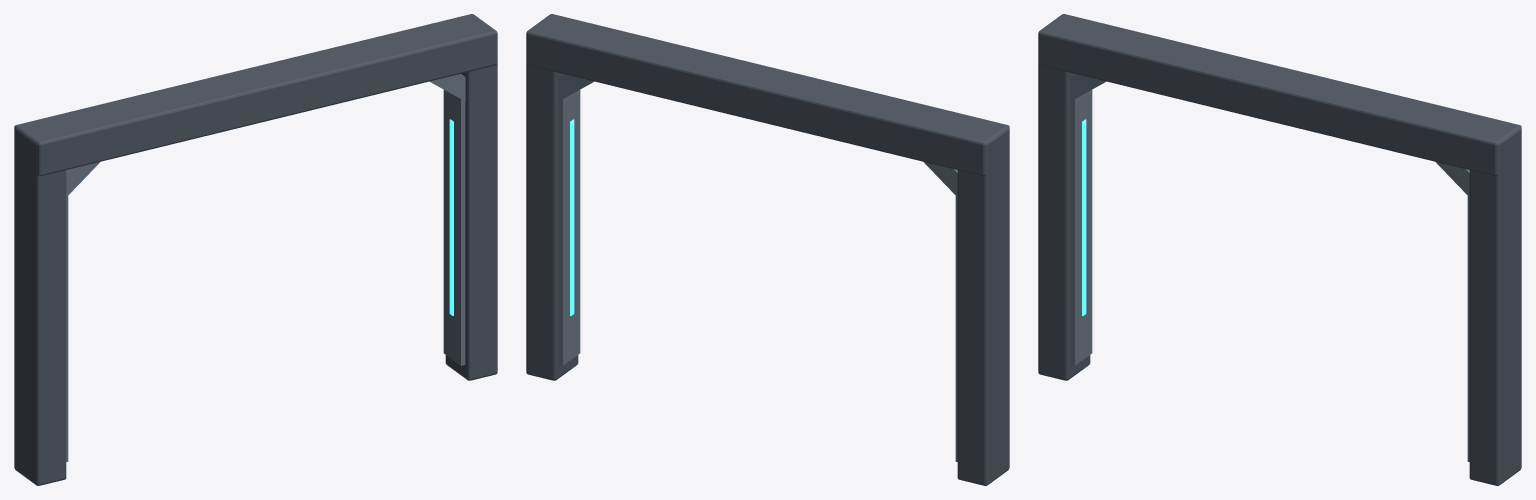
Rendered from arco_criogenico.glb.
3 views of the same model, side by side, from view 1: azimuth 30°, elevation 25°; view 2: azimuth 150°, elevation 25°; view 3: azimuth 330°, elevation 25° (orthographic).
Visible parts, largest first — view 1: Viga_Sup, Pilar_-3.02, Pilar_3.02, Placa_3.02, TiraCian_3.02, Placa_-3.02, Escuadra_3.02; view 2: Viga_Sup, Pilar_-3.02, Pilar_3.02, Placa_3.02, TiraCian_3.02, Placa_-3.02, Escuadra_3.02; view 3: Viga_Sup, Pilar_3.02, Pilar_-3.02, Placa_-3.02, TiraCian_-3.02, Placa_3.02, Escuadra_-3.02.
Part boxes in pixels (x1,y1,x2,y2): Viga_Sup: (14,14,497,176); Pilar_-3.02: (14,127,66,485); Pilar_3.02: (445,64,497,380); Placa_3.02: (443,90,465,365); TiraCian_3.02: (449,119,453,315); Placa_-3.02: (66,196,68,461); Escuadra_3.02: (429,74,465,101); Viga_Sup: (526,14,1009,176); Pilar_-3.02: (957,127,1009,485); Pilar_3.02: (526,64,578,380); Placa_3.02: (558,90,580,365); TiraCian_3.02: (570,119,574,315); Placa_-3.02: (955,196,957,461); Escuadra_3.02: (558,74,594,101); Viga_Sup: (1038,14,1521,176); Pilar_3.02: (1469,127,1521,485); Pilar_-3.02: (1038,64,1090,380); Placa_-3.02: (1070,90,1092,365); TiraCian_-3.02: (1082,119,1086,315); Placa_3.02: (1467,196,1469,461); Escuadra_-3.02: (1070,74,1106,101).
Size of the model in its own units: 6.46 by 4.61 by 0.62.
